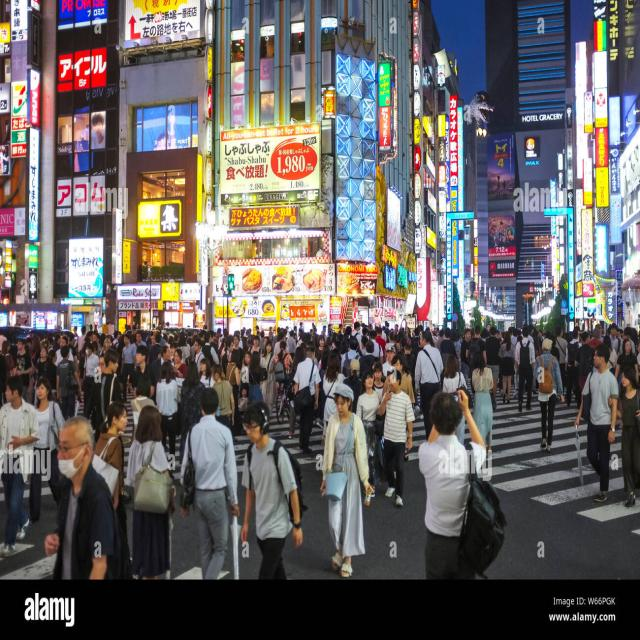Pedestrians: (419, 392, 493, 574), (45, 416, 126, 580), (240, 401, 306, 577), (181, 389, 238, 578), (326, 385, 369, 578), (132, 403, 171, 581), (575, 347, 618, 506), (1, 378, 37, 556), (378, 372, 414, 511), (32, 379, 62, 516), (534, 338, 565, 457), (617, 365, 640, 508), (471, 353, 496, 451), (93, 349, 124, 411), (517, 325, 535, 414), (442, 355, 468, 394)
